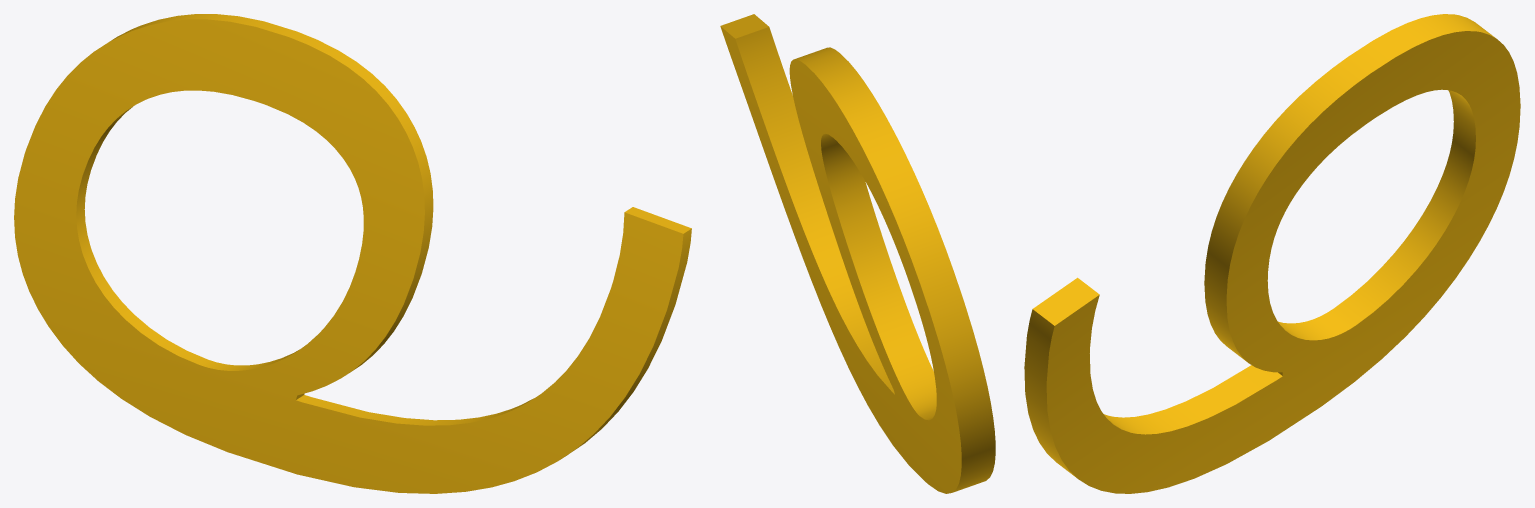
Rendered from Number_6.gltf.
3 views of the same model, side by side, from view 1: azimuth 30°, elevation 25°; view 2: azimuth 150°, elevation 25°; view 3: azimuth 270°, elevation 25° (orthographic). The views are drawn at different scales.
Visible parts, largest first — view 1: Sub_6_Cell_2_1_Number_6; view 2: Sub_6_Cell_2_1_Number_6; view 3: Sub_6_Cell_2_1_Number_6.
Part boxes in pixels (box(x1,y1,x2,y2)): Sub_6_Cell_2_1_Number_6: box(14, 14, 691, 493); Sub_6_Cell_2_1_Number_6: box(720, 14, 995, 493); Sub_6_Cell_2_1_Number_6: box(1024, 14, 1520, 493).
Bounding box in the file's own units: 0.0206 × 0.0176 × 0.0193.
